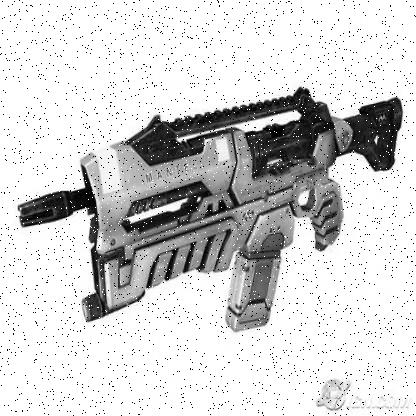rifle: (12, 67, 410, 335)
